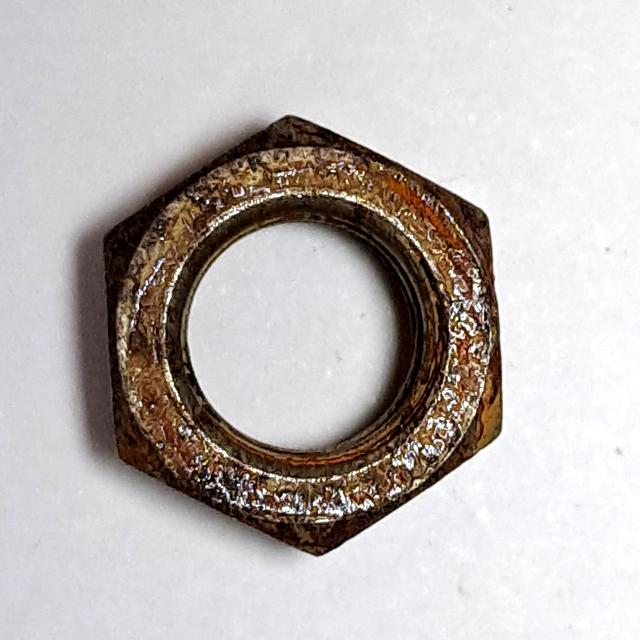Rust: (87, 102, 524, 572)
